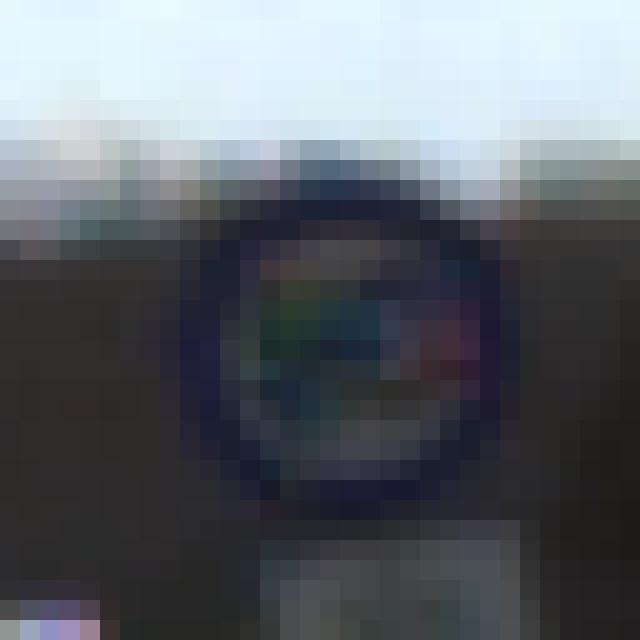SPEED-LIMIT-80: (185, 192, 509, 498)
